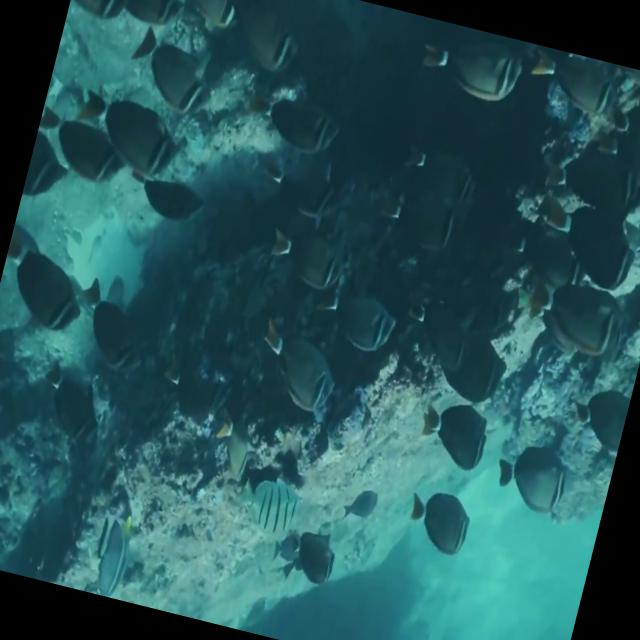fish: (59, 76, 191, 198), (0, 216, 105, 344), (510, 42, 638, 143), (406, 23, 532, 122), (518, 268, 640, 368), (520, 198, 640, 297), (352, 165, 460, 274), (66, 266, 156, 390), (236, 318, 344, 420), (396, 124, 494, 236), (27, 356, 120, 472), (403, 388, 504, 494), (27, 98, 135, 195), (310, 278, 406, 381), (532, 140, 640, 231), (117, 34, 220, 128), (254, 210, 356, 300), (424, 320, 519, 414), (118, 162, 220, 248), (220, 0, 317, 88), (488, 438, 578, 530), (260, 78, 352, 166), (392, 482, 474, 564), (240, 462, 314, 546), (560, 379, 632, 462), (78, 506, 140, 600), (20, 120, 80, 214), (276, 531, 342, 601), (163, 0, 248, 37), (604, 100, 640, 185), (103, 0, 186, 35), (339, 475, 389, 531), (66, 0, 138, 29), (625, 203, 640, 289)
